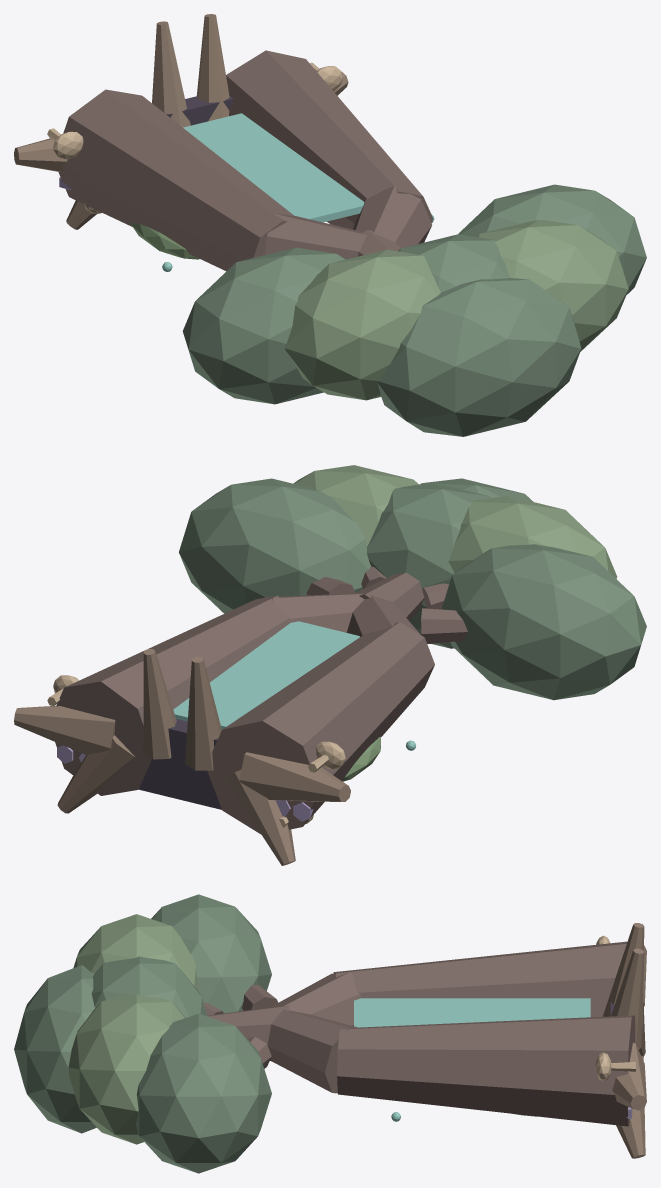
The model's file is fairy_tree_entrance.glb.
The picture shows the model from 3 angles, top to bottom: view 1: azimuth 30°, elevation 25°; view 2: azimuth 150°, elevation 25°; view 3: azimuth 270°, elevation 25°; orthographic projection. The views are drawn at different scales.
Visible parts, largest first — view 1: leaf_5, trunk_left, leaf_1, leaf_0, trunk_right, leaf_3, fae_portal, leaf_4, leaf_2, arch_right, arch_left, root_4 (+6 smaller); view 2: leaf_0, trunk_left, leaf_4, trunk_right, leaf_2, fae_portal, leaf_1, leaf_3, root_0, root_2, threshold, root_4 (+11 smaller); view 3: trunk_right, leaf_4, trunk_left, leaf_3, leaf_5, leaf_0, fae_portal, arch_right, leaf_1, leaf_2, arch_left, root_5 (+5 smaller).
Part boxes in pixels (<box>): leaf_5: <box>377,278,581,436</box>; trunk_left: <box>58,89,294,271</box>; leaf_1: <box>285,249,440,400</box>; leaf_0: <box>182,247,345,404</box>; trunk_right: <box>226,50,433,229</box>; leaf_3: <box>476,220,628,351</box>; fae_portal: <box>183,113,364,222</box>; leaf_4: <box>458,184,646,294</box>; leaf_2: <box>398,234,509,292</box>; arch_right: <box>353,186,431,247</box>; arch_left: <box>265,214,366,259</box>; root_4: <box>152,21,190,127</box>; leaf_0: <box>441,544,646,700</box>; trunk_left: <box>207,622,434,834</box>; leaf_4: <box>179,478,370,613</box>; trunk_right: <box>55,595,290,795</box>; leaf_2: <box>367,482,491,648</box>; fae_portal: <box>173,621,359,729</box>; leaf_1: <box>448,495,617,578</box>; leaf_3: <box>293,465,418,546</box>; root_0: <box>239,752,350,801</box>; root_2: <box>14,706,115,755</box>; threshold: <box>138,719,221,809</box>; root_4: <box>185,656,221,770</box>; trunk_right: <box>337,1015,635,1126</box>; leaf_4: <box>135,1013,271,1173</box>; trunk_left: <box>333,941,627,1017</box>; leaf_3: <box>68,994,185,1144</box>; leaf_5: <box>14,965,96,1133</box>; leaf_0: <box>151,894,271,1013</box>; fae_portal: <box>354,998,590,1027</box>; arch_right: <box>267,1009,357,1093</box>; leaf_1: <box>73,914,199,991</box>; leaf_2: <box>91,956,206,1017</box>; arch_left: <box>270,972,360,1025</box>; root_5: <box>611,948,644,1049</box>.
Size of the model in its own units: 3.5 by 1.46 by 4.49.
